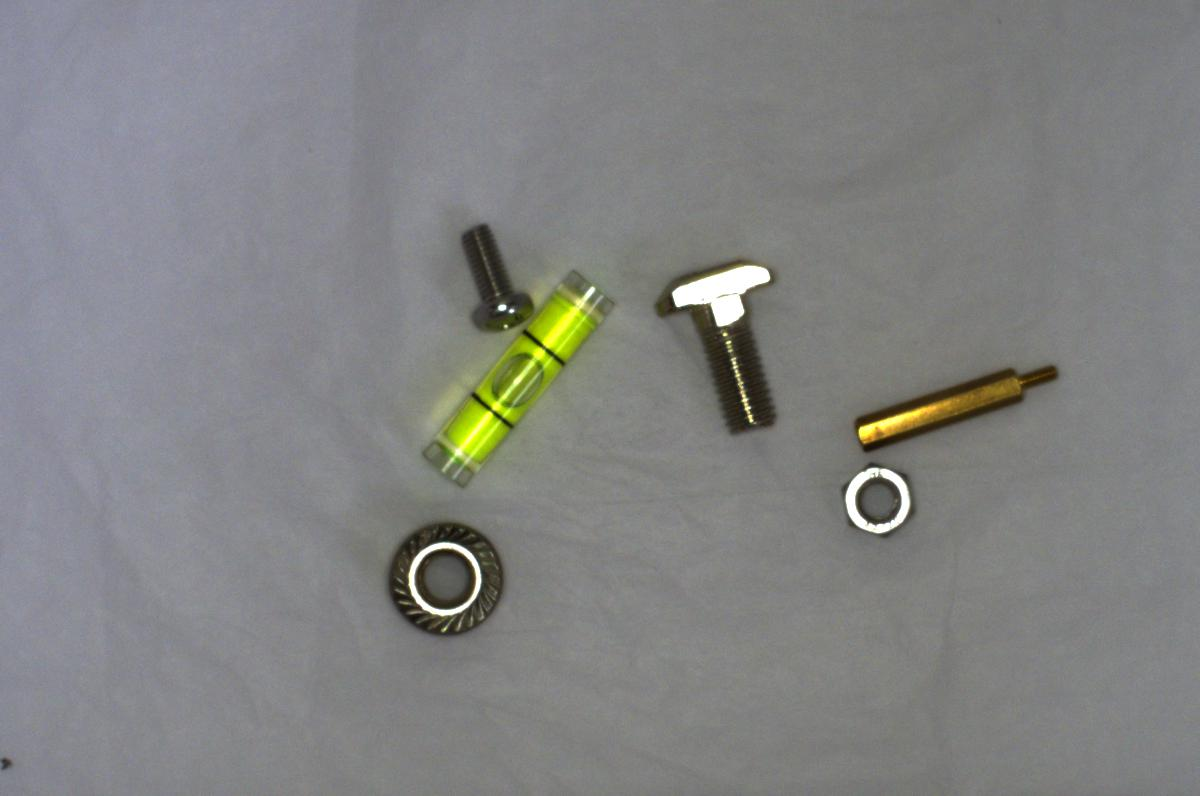Flange nut: (378, 515, 508, 635)
Hexagon nut: (827, 456, 928, 546)
Hexagon pillar: (848, 347, 1064, 459)
Horizontal bubble: (413, 269, 614, 483)
Round head screw: (451, 213, 528, 332)
T-shaped screw: (654, 248, 788, 435)
